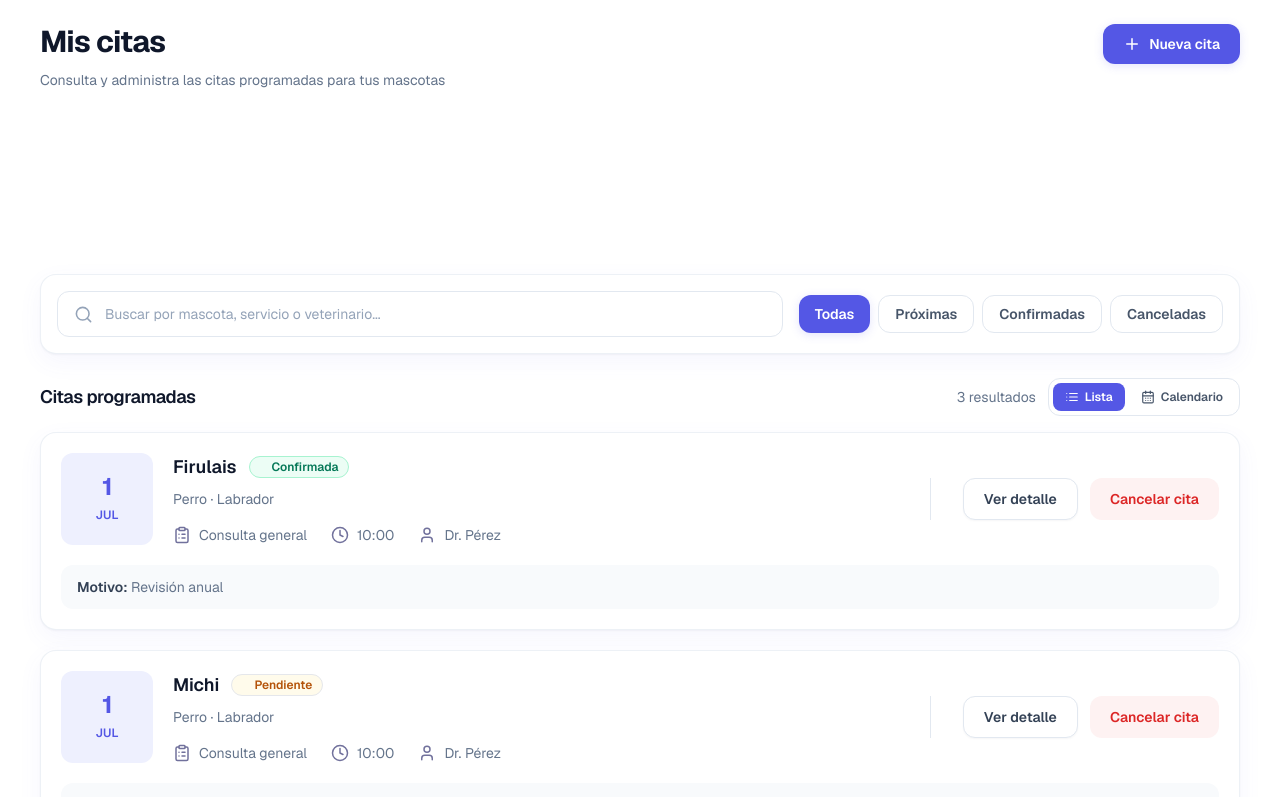
AgendarPage — filtros y búsqueda › la búsqueda filtra por nombre de mascota
Expected: the heading "Firulais" is shown, [173, 453, 236, 481]
Type "michi" into the field with placeholder "Buscar por mascota, servicio o veterinario...".
click(435, 314); type("michi")  # box [105, 304, 766, 324]
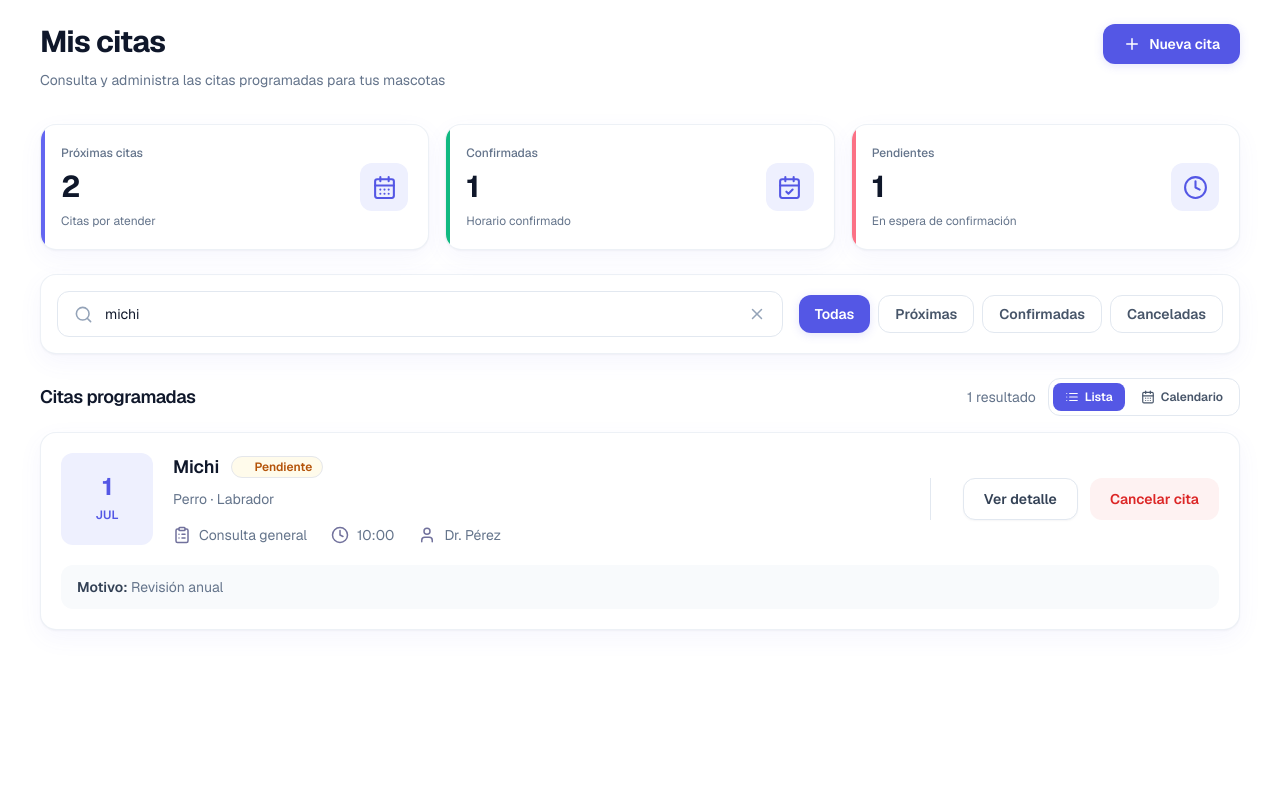
Expected: the heading "Michi" is shown, [173, 453, 219, 481]
Expected: the heading "Firulais" is gone
